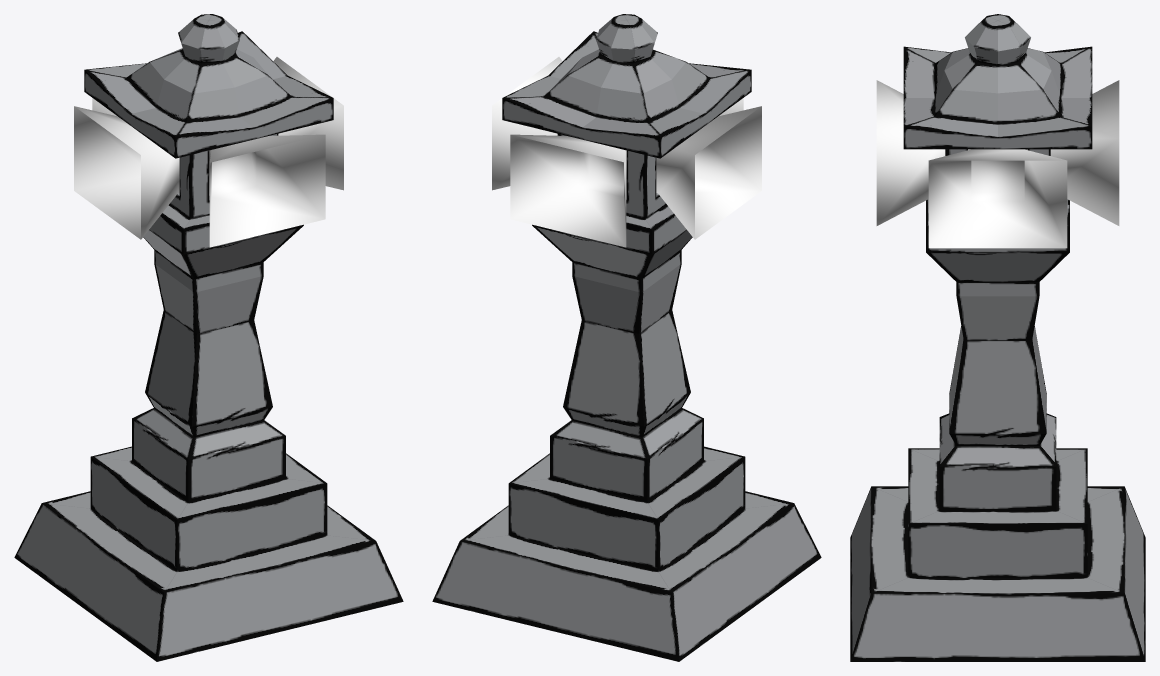
File: Lvl1.Post.fbx
3 views of the same model, side by side, from view 1: azimuth 30°, elevation 25°; view 2: azimuth 150°, elevation 25°; view 3: azimuth 270°, elevation 25° (orthographic). The views are drawn at different scales.
Visible parts, largest first — view 1: Props_Post.023, Props_Post.024; view 2: Props_Post.023, Props_Post.024; view 3: Props_Post.023, Props_Post.024.
Boxes of the visible parts, box(x1,y1,x2,y2) form: Props_Post.023: box(14, 14, 403, 661); Props_Post.024: box(74, 57, 343, 247); Props_Post.023: box(432, 14, 821, 661); Props_Post.024: box(492, 57, 761, 247); Props_Post.023: box(850, 14, 1145, 661); Props_Post.024: box(876, 80, 1119, 248).
Size of the model in its own units: 121 by 262 by 121.
